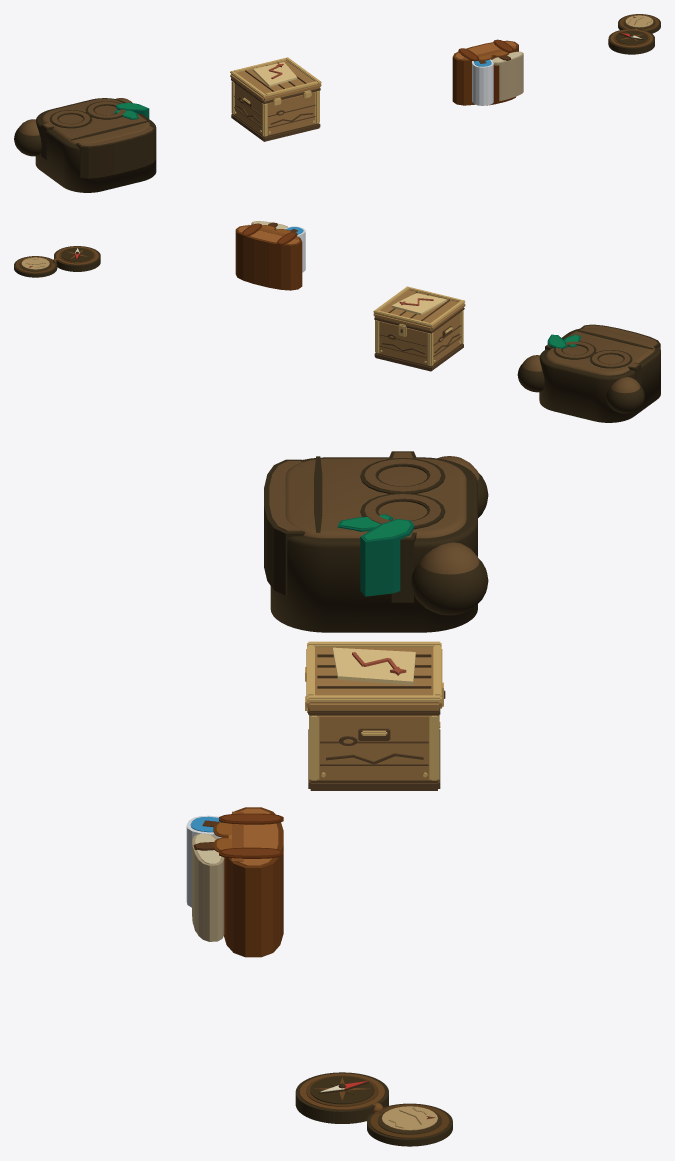
The model's file is norte-perdido.fbx.
3 views of the same model, one above another, from view 1: azimuth 30°, elevation 25°; view 2: azimuth 150°, elevation 25°; view 3: azimuth 270°, elevation 25° (orthographic). The views are drawn at different scales.
Parts seen in each view (by area): view 1: body_explorador_corpo, crate_aventureiro_caixa, bag_cartografo_mochila, book_bussola_livro, body_explorador_mao_esq; view 2: body_explorador_corpo, crate_aventureiro_caixa, bag_cartografo_mochila, book_bussola_livro, body_explorador_mao_esq, body_explorador_mao; view 3: body_explorador_corpo, crate_aventureiro_caixa, bag_cartografo_mochila, book_bussola_livro, body_explorador_mao.
Boxes of the visible parts, x1=… form: body_explorador_corpo: x1=35, y1=98, x2=156, y2=192; crate_aventureiro_caixa: x1=230, y1=57, x2=321, y2=141; bag_cartografo_mochila: x1=452, y1=39, x2=523, y2=105; book_bussola_livro: x1=608, y1=14, x2=660, y2=54; body_explorador_mao_esq: x1=14, y1=119, x2=41, y2=156; body_explorador_corpo: x1=539, y1=324, x2=660, y2=422; crate_aventureiro_caixa: x1=373, y1=286, x2=465, y2=371; bag_cartografo_mochila: x1=235, y1=221, x2=305, y2=290; book_bussola_livro: x1=14, y1=246, x2=100, y2=277; body_explorador_mao_esq: x1=606, y1=377, x2=644, y2=413; body_explorador_mao: x1=517, y1=355, x2=544, y2=392; body_explorador_corpo: x1=264, y1=451, x2=477, y2=632; crate_aventureiro_caixa: x1=305, y1=641, x2=445, y2=790; bag_cartografo_mochila: x1=186, y1=807, x2=283, y2=957; book_bussola_livro: x1=295, y1=1072, x2=452, y2=1146; body_explorador_mao: x1=411, y1=542, x2=488, y2=615.
Bounding box in the file's own units: 28.11 × 2.24 × 5.82.
1 material, 1 textured.
